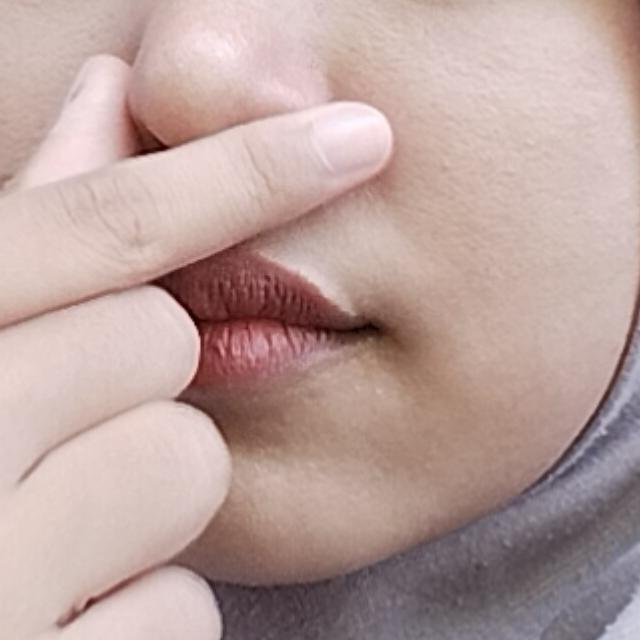bau: (0, 28, 520, 640)
